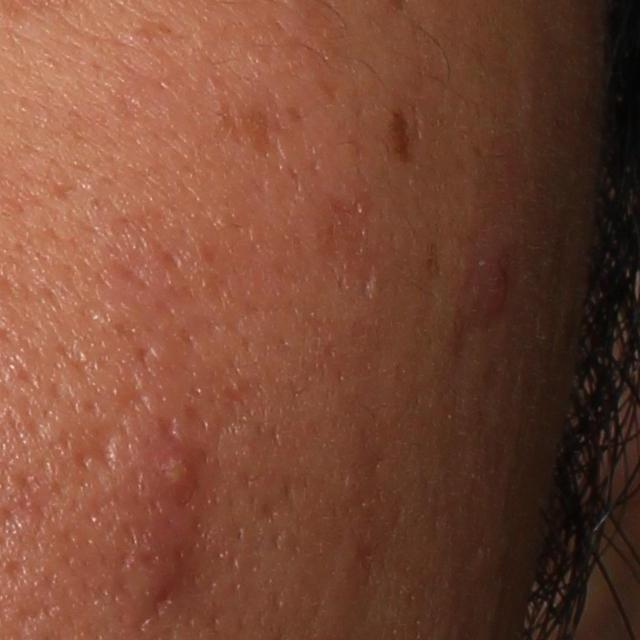atrophic_scar: (69, 408, 129, 474)
papule: (117, 541, 194, 620), (142, 439, 202, 500), (469, 250, 515, 322)
